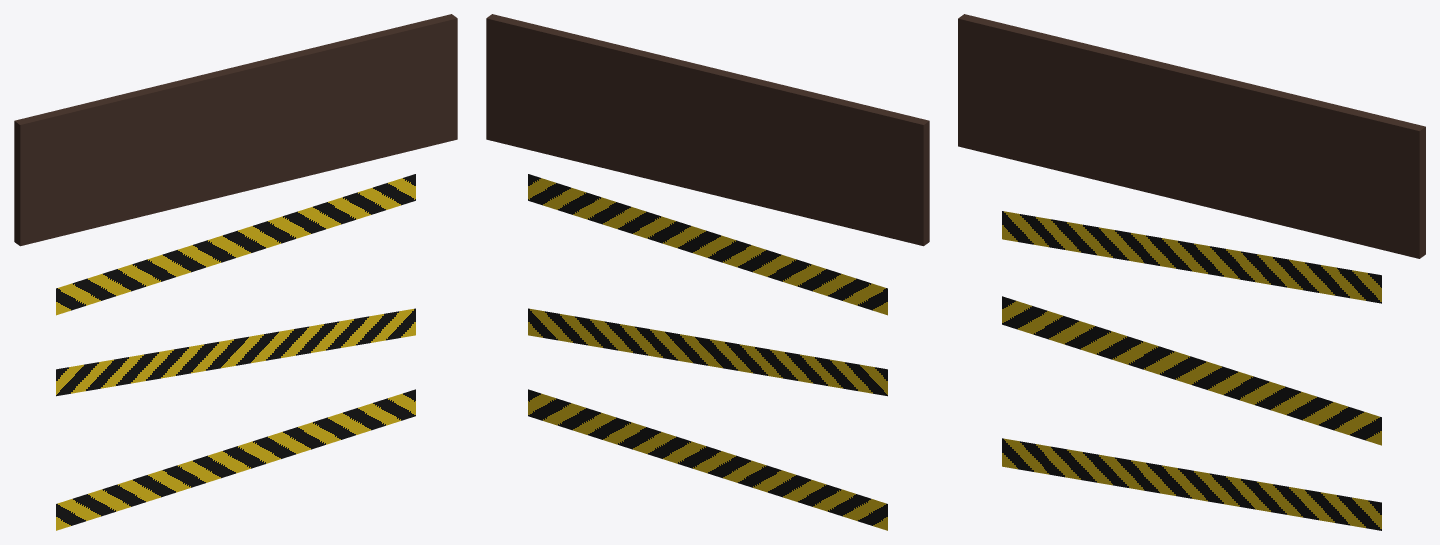
File: fita_zebrada_reforma.glb
The picture shows the model from 3 angles, left to right: view 1: azimuth 30°, elevation 25°; view 2: azimuth 150°, elevation 25°; view 3: azimuth 330°, elevation 25°; orthographic projection. The views are drawn at different scales.
Parts seen in each view (by area): view 1: Placa_0, Fita_1; view 2: Placa_0, Fita_1; view 3: Placa_0, Fita_1.
Part boxes in pixels (x1,y1,x2,y2): Placa_0: (14,14,457,246); Fita_1: (56,174,415,530); Placa_0: (486,14,929,246); Fita_1: (528,174,887,530); Placa_0: (958,14,1425,258); Fita_1: (1002,211,1381,530).
Size of the model in its own units: 1.7 by 1.55 by 0.04.
2 materials, 1 textured.
